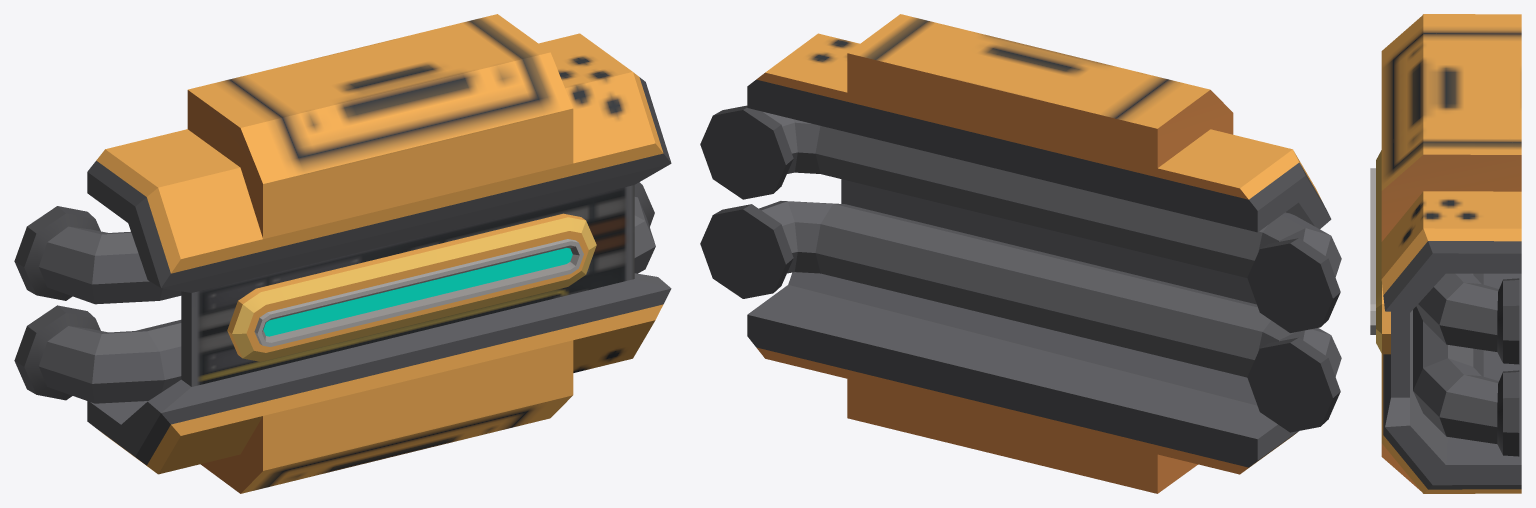
Rendered from SM_Prop_Greebles_09.fbx.
3 views of the same model, side by side, from view 1: azimuth 30°, elevation 25°; view 2: azimuth 150°, elevation 25°; view 3: azimuth 270°, elevation 25° (orthographic). The views are drawn at different scales.
Parts seen in each view (by area): view 1: SM_Prop_Greebles_09; view 2: SM_Prop_Greebles_09; view 3: SM_Prop_Greebles_09.
Part boxes in pixels (x1=…): SM_Prop_Greebles_09: x1=14, y1=14, x2=671, y2=493; SM_Prop_Greebles_09: x1=700, y1=14, x2=1341, y2=493; SM_Prop_Greebles_09: x1=1370, y1=14, x2=1521, y2=493.
Bounding box in the file's own units: 118 × 65.01 × 26.29.
